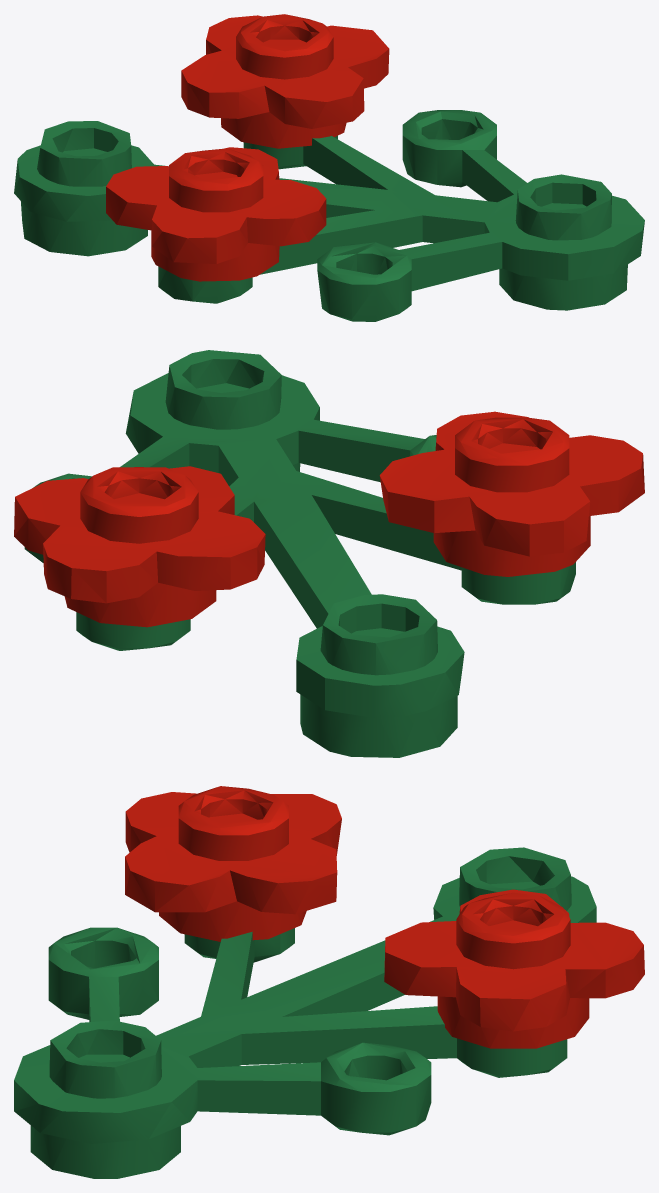
File: frog_stem_a_red.glb
3 views of the same model, one above another, from view 1: azimuth 30°, elevation 25°; view 2: azimuth 150°, elevation 25°; view 3: azimuth 270°, elevation 25° (orthographic). The views are drawn at different scales.
Parts seen in each view (by area): view 1: frog_stem_a_red; view 2: frog_stem_a_red; view 3: frog_stem_a_red.
Boxes of the visible parts, bbox=[...] form: frog_stem_a_red: bbox=[14, 14, 644, 321]; frog_stem_a_red: bbox=[14, 350, 644, 757]; frog_stem_a_red: bbox=[14, 786, 644, 1178].
Bounding box in the file's own units: 0.8873 × 0.2846 × 0.9399.
